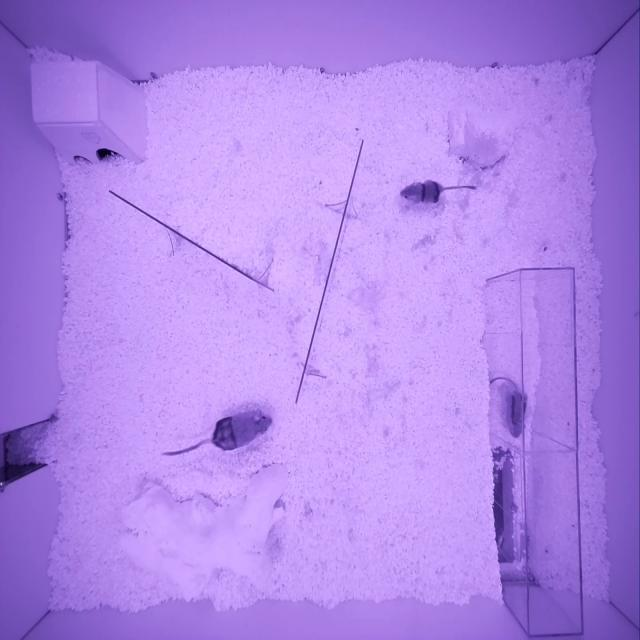adult_back: (211, 410, 273, 451)
pup_h_stripe: (400, 179, 442, 205)
pup_v_stripe: (506, 391, 527, 438)
